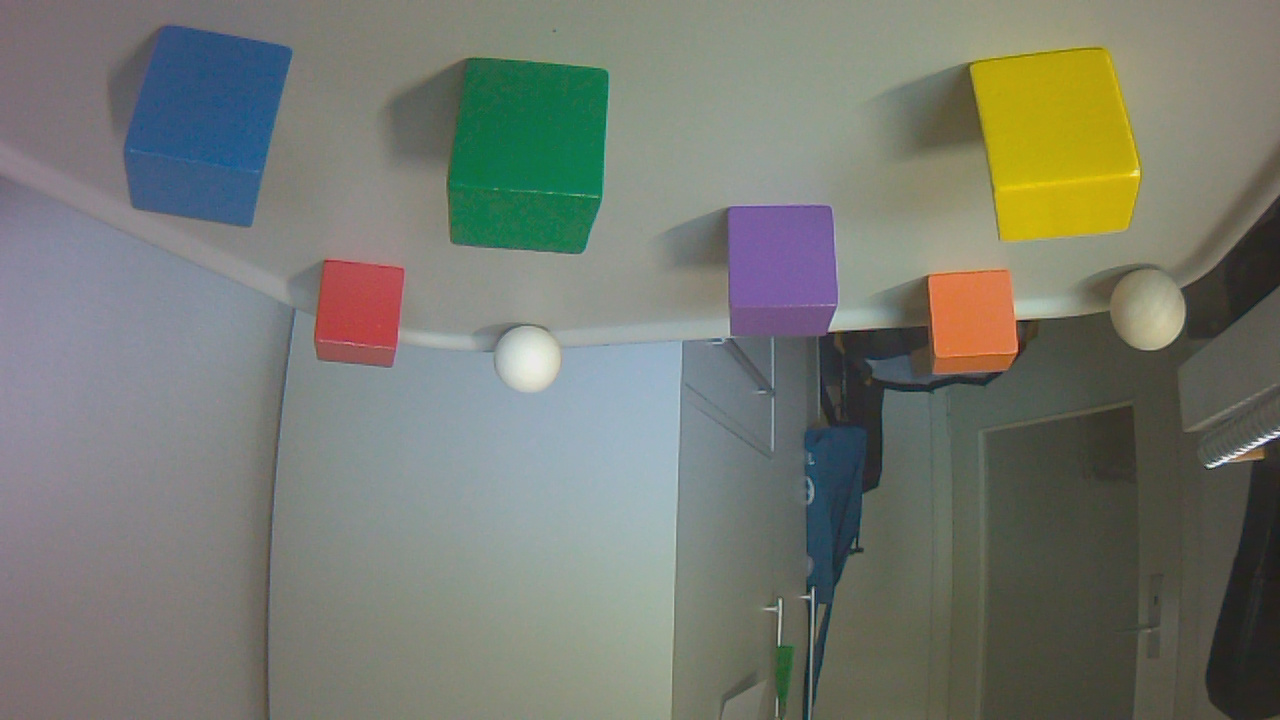ball: (1113, 271, 1192, 357), (498, 327, 568, 401)
cube_blue: (125, 27, 299, 236)
cube_green: (448, 61, 617, 260)
cube_orange: (928, 272, 1025, 382)
cube_purple: (729, 209, 844, 345)
cube_red: (316, 261, 412, 375)
cube_yellow: (972, 50, 1147, 251)
